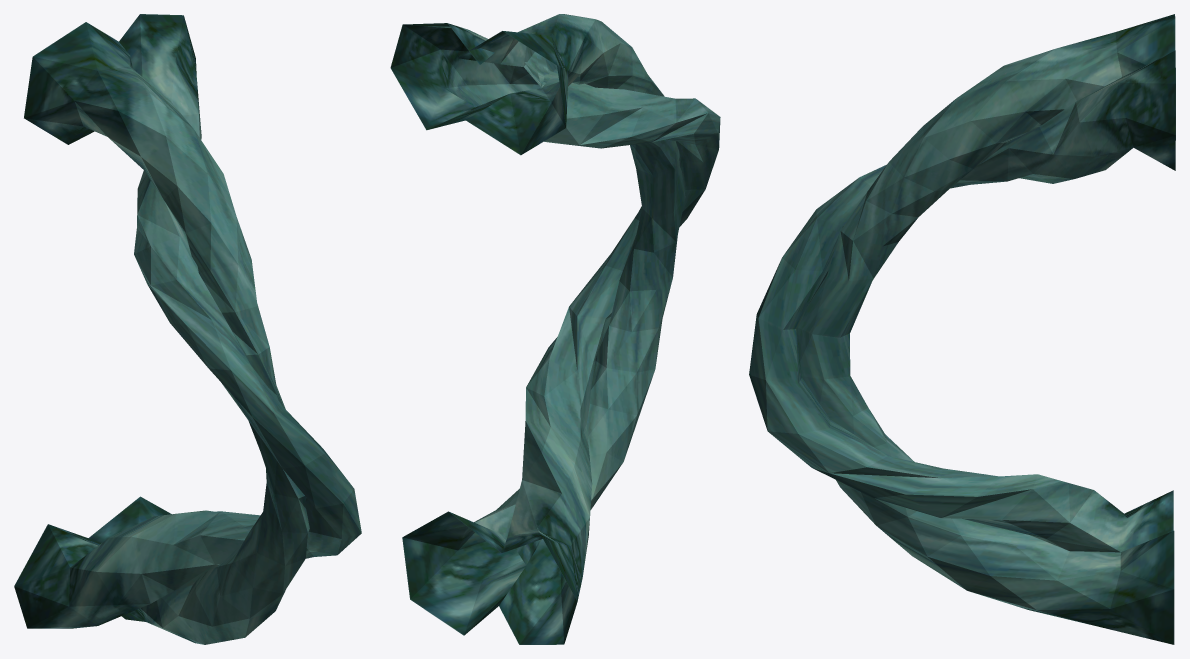
Rendered from shenjie_fuben_01_shugen.obj.
3 renders of one model, left to right at view 1: azimuth 30°, elevation 25°; view 2: azimuth 150°, elevation 25°; view 3: azimuth 270°, elevation 25°, orthographic.
Visible parts, largest first — view 1: shenjie_fuben_01_shugen; view 2: shenjie_fuben_01_shugen; view 3: shenjie_fuben_01_shugen.
Part boxes in pixels (x1,y1,x2,y2): shenjie_fuben_01_shugen: (14, 14, 361, 644); shenjie_fuben_01_shugen: (390, 14, 720, 644); shenjie_fuben_01_shugen: (749, 14, 1175, 644).
Bounding box in the file's own units: 235 × 744 × 476.
Materials: 1 (1 with a texture image).
